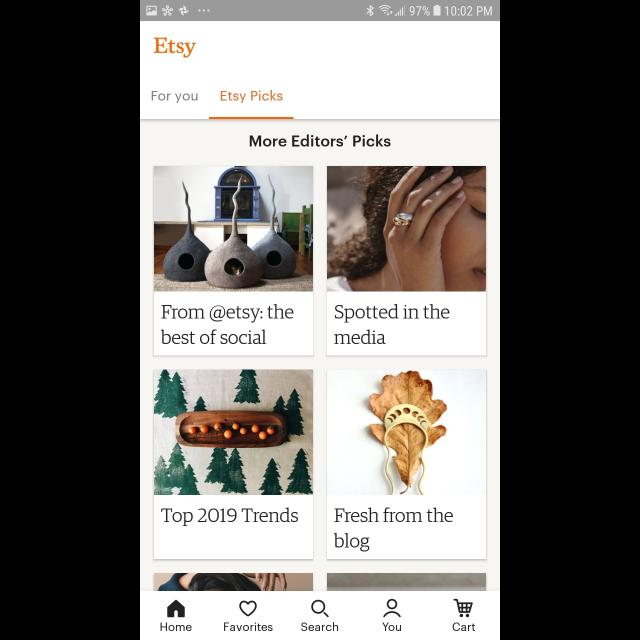icon: (453, 598, 472, 618), (383, 598, 401, 618), (311, 599, 329, 617), (167, 599, 185, 617), (239, 600, 257, 616)
image: (154, 166, 314, 292), (326, 166, 486, 292), (326, 369, 486, 495), (154, 370, 314, 494), (154, 573, 314, 591), (326, 573, 486, 591)
text: (162, 304, 294, 344), (334, 508, 454, 552), (334, 304, 450, 344), (162, 506, 298, 526), (250, 135, 390, 147), (221, 90, 283, 104), (155, 38, 197, 58), (152, 92, 198, 104), (224, 622, 272, 630), (302, 622, 338, 630), (160, 622, 192, 630), (452, 622, 476, 630), (382, 622, 402, 630)
uppertaskbar: (140, 1, 500, 22)
